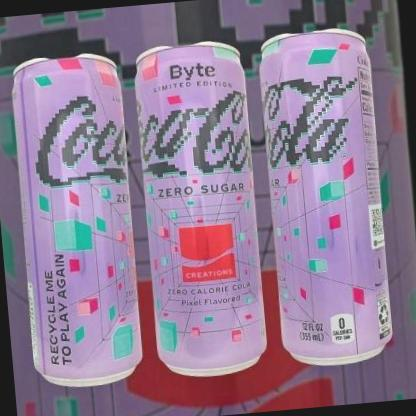alumunium_can: (124, 33, 276, 380), (253, 23, 403, 370), (6, 46, 154, 392)
